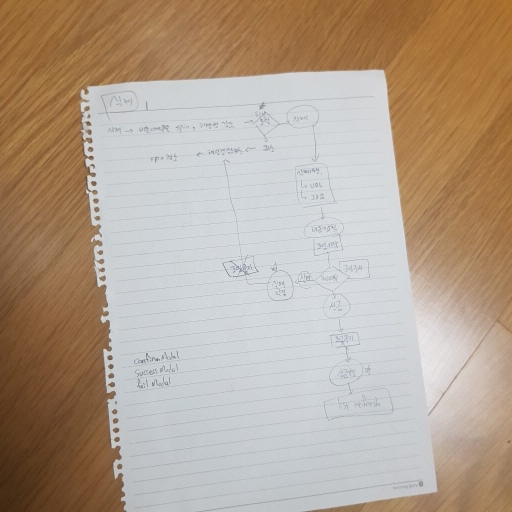Paper_2: (71, 63, 453, 512)
